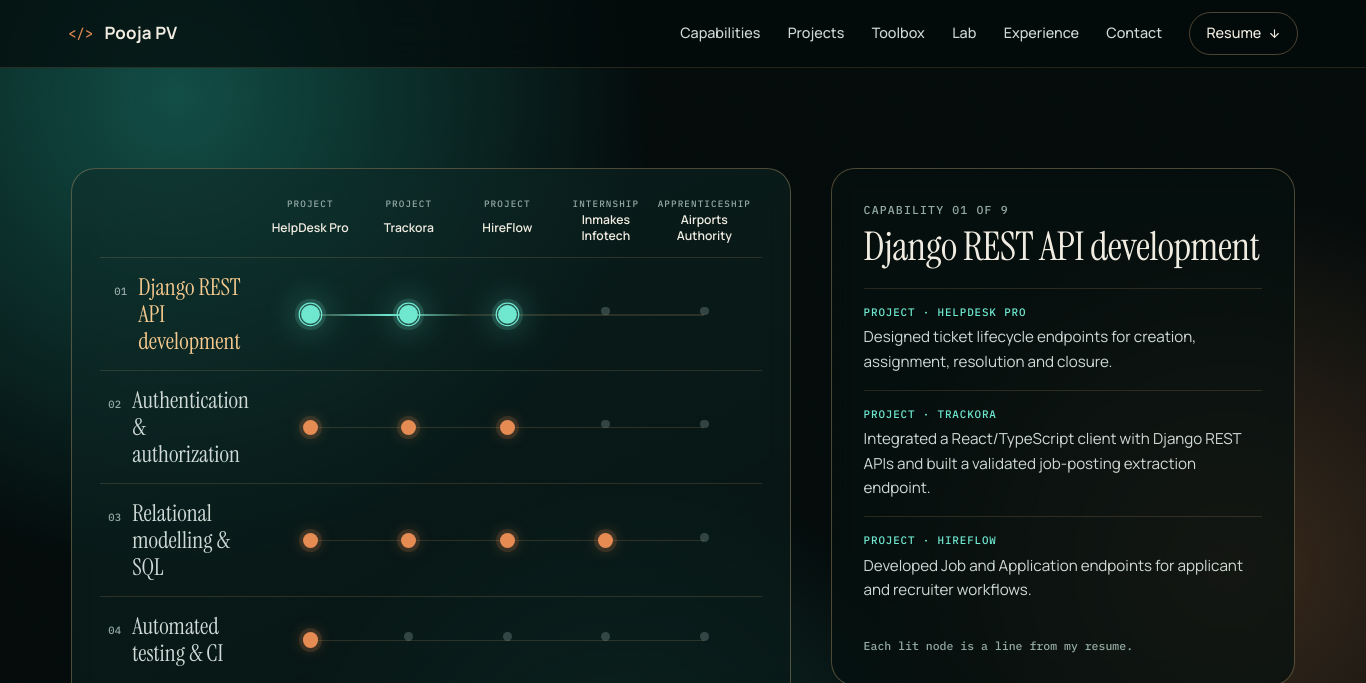
Test: portfolio › reveals the resume evidence behind a capability when its row is chosen
This screenshot has width=1366, height=683.
(page scrolled)
Step 1. Click the button "02 Authentication & authorization" → [191, 400], box x1=100 y1=370 x2=762 y2=483
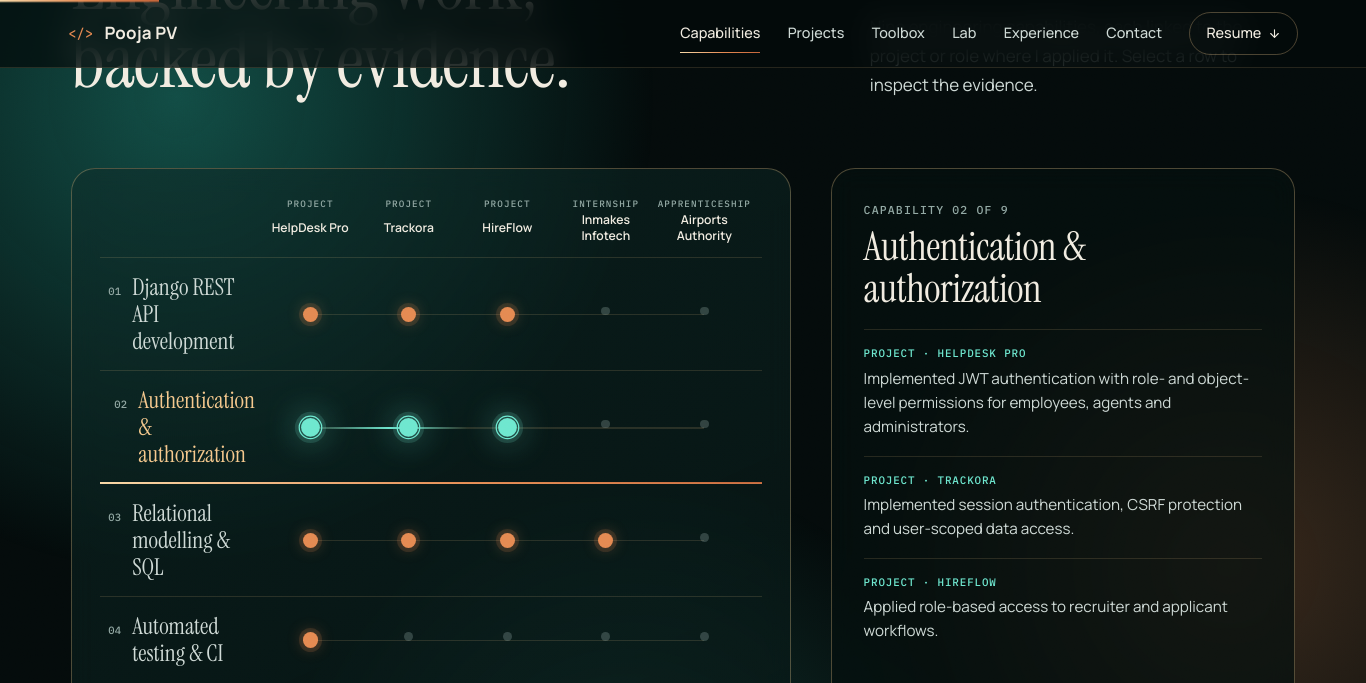
Expected: the heading "Authentication & authorization" is shown, x1=864 y1=221 x2=1085 y2=314
Expected: the text "session authentication, CSRF protection and user-scoped data access" is shown, x1=864 y1=494 x2=1242 y2=539
